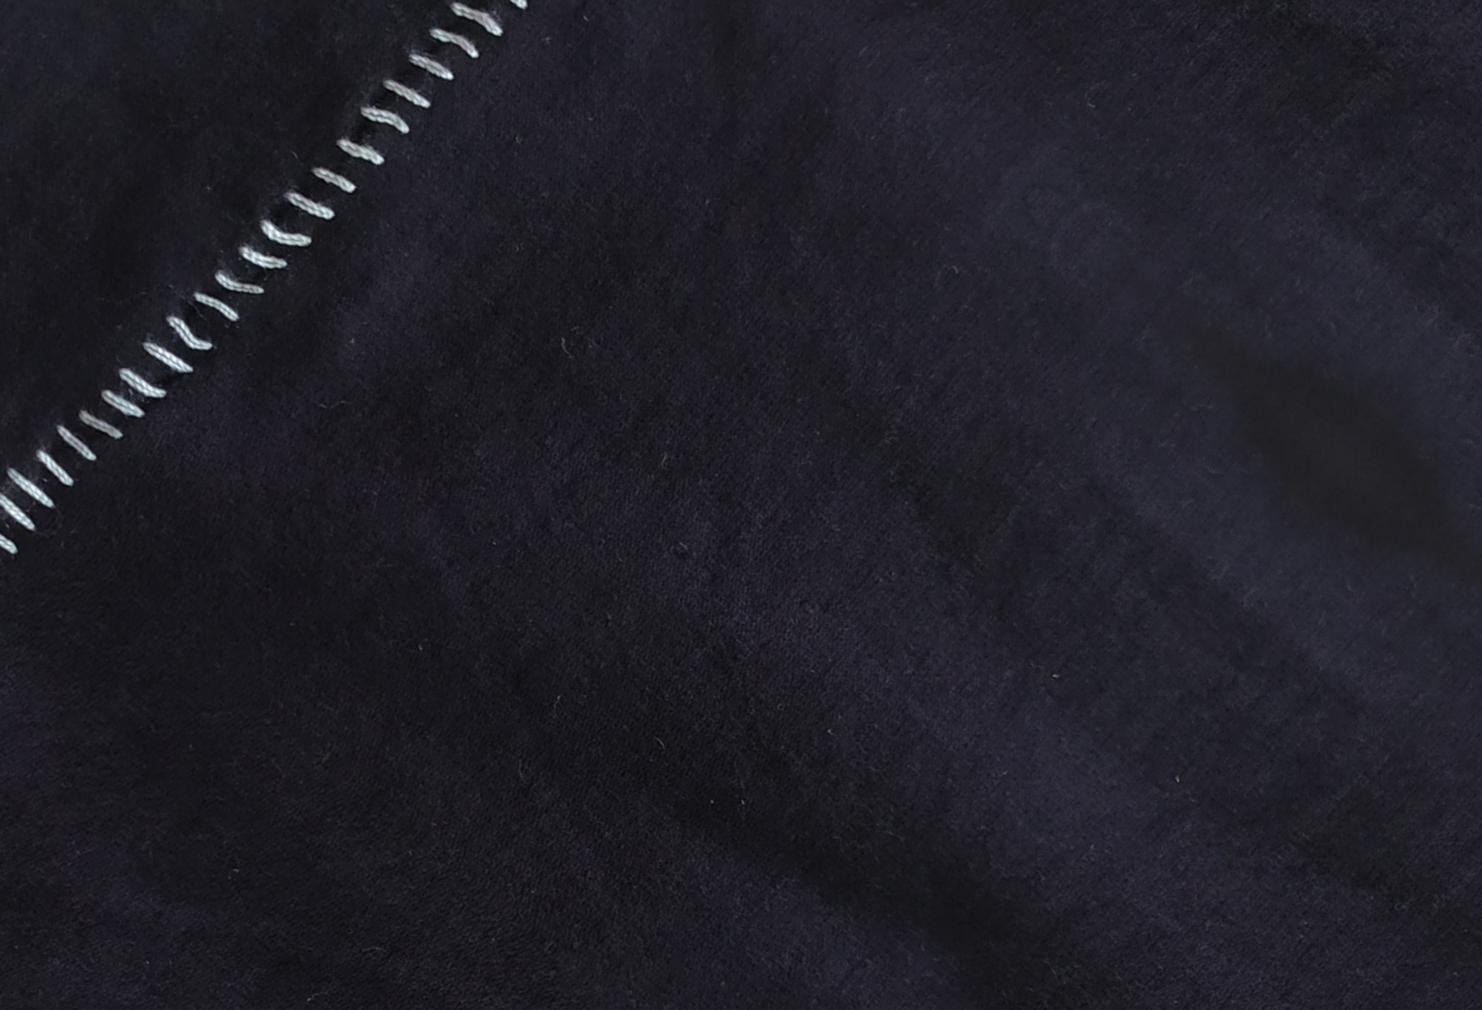slub: (1, 0, 536, 579)
